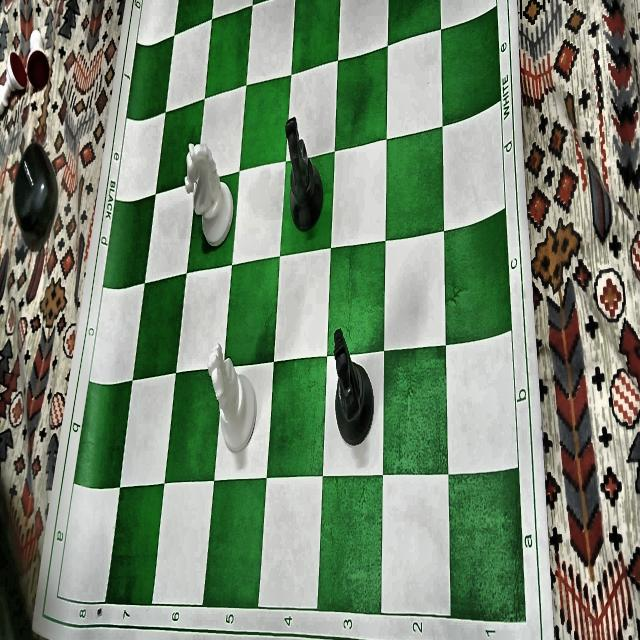BlackKnight: (333, 325, 375, 446), (284, 114, 325, 231)
WhiteKnight: (183, 142, 234, 252), (208, 343, 255, 454)
